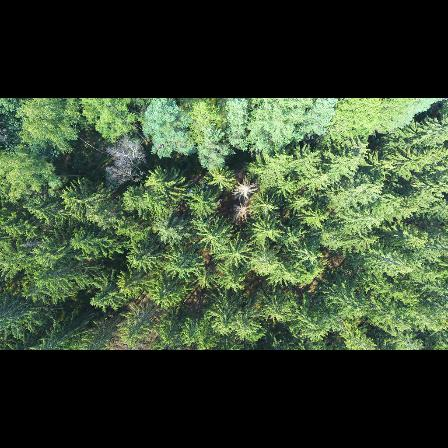Dead: (105, 134, 147, 189), (231, 178, 261, 200), (231, 200, 253, 223)
